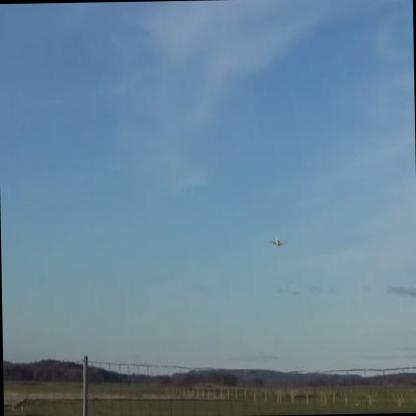plane: (269, 237, 285, 247)
